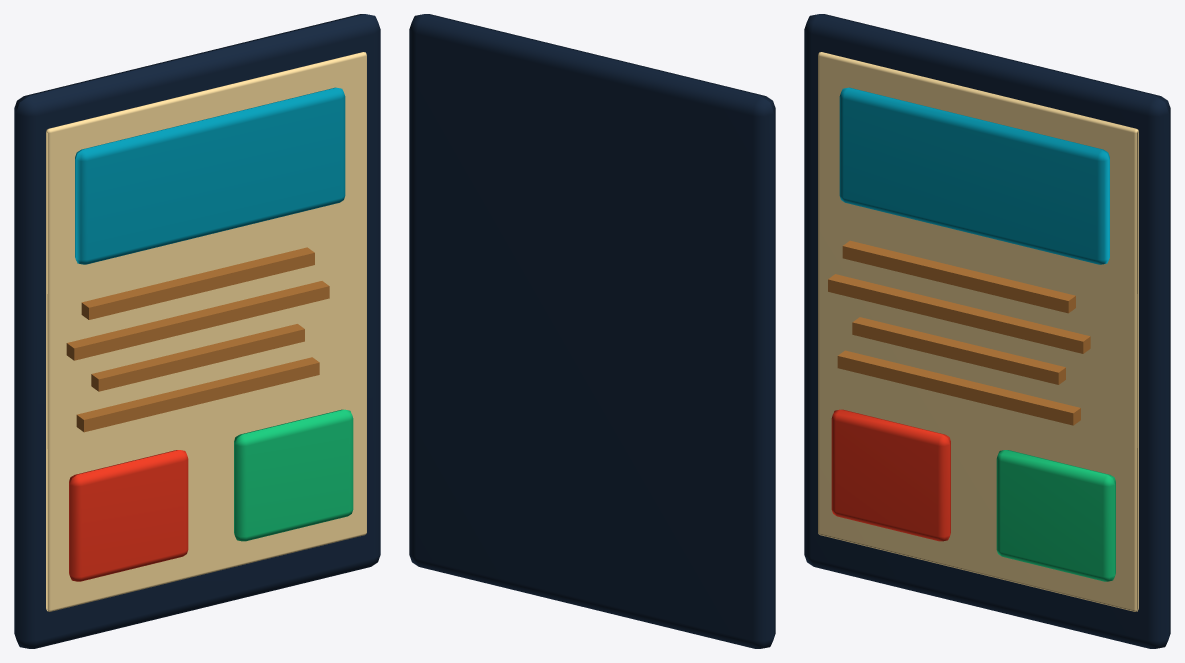
The model's file is 12_Tablet.glb.
The picture shows the model from 3 angles, left to right: view 1: azimuth 30°, elevation 25°; view 2: azimuth 150°, elevation 25°; view 3: azimuth 330°, elevation 25°; orthographic projection.
Parts seen in each view (by area): view 1: 12_Tablet_EXPORT; view 2: 12_Tablet_EXPORT; view 3: 12_Tablet_EXPORT.
Boxes of the visible parts, x1,y1,x2,y2 form: 12_Tablet_EXPORT: [14, 14, 380, 648]; 12_Tablet_EXPORT: [409, 14, 775, 648]; 12_Tablet_EXPORT: [804, 14, 1170, 648].
Bounding box in the file's own units: 0.37 × 0.538 × 0.046.
